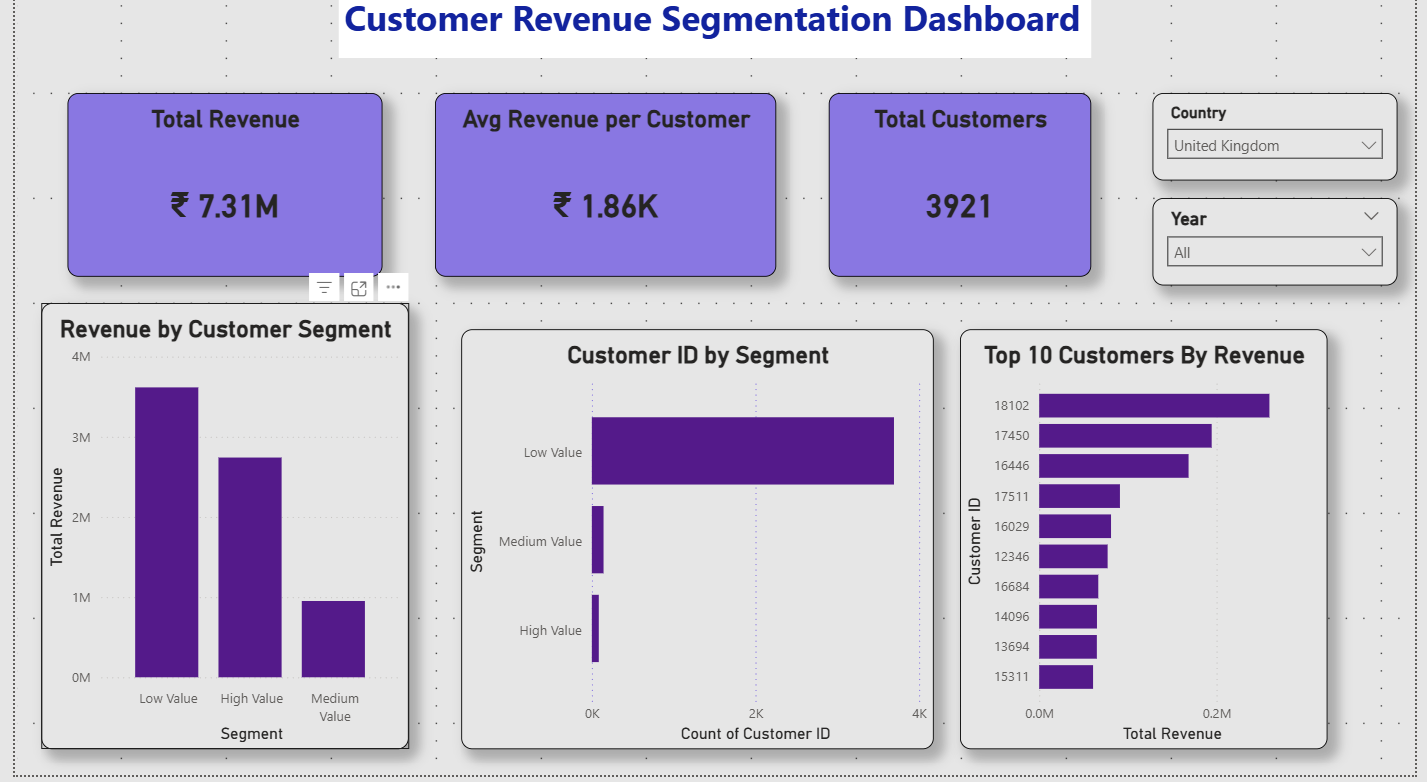

This screenshot's page, from the dashboard's own definition file:
{"tool":"powerbi","page":{"name":"Page 1","canvas":[1280,720],"ordinal":0},"visuals":[{"type":"card","title":"Total Revenue","fields":{"Values":["Cleaned_data.Total Revenue"]},"box":[48,96,288,168],"z":0},{"type":"textbox","box":[296,0,688,64],"z":1},{"type":"card","title":"Avg Revenue per Customer","fields":{"Values":["Cleaned_data.Avg Revenue per Customer"]},"box":[384,96,312,168],"z":2},{"type":"card","title":"Total Customers","fields":{"Values":["Cleaned_data.Total Customers"]},"box":[744,96,240,168],"z":3},{"type":"clusteredColumnChart","title":"Revenue by Customer Segment","fields":{"Y":["Cleaned_data.Total Revenue"],"Category":["Cleaned_data.Segment"]},"box":[24,288,336,408],"z":4},{"type":"clusteredBarChart","title":"Customer ID by Segment","fields":{"Category":["Cleaned_data.Segment"],"Y":["Count(Cleaned_data.Customer ID)"]},"box":[408,312,432,384],"z":5},{"type":"clusteredBarChart","title":"Top 10 Customers By Revenue","fields":{"Category":["Cleaned_data.Customer ID"],"Y":["Cleaned_data.Total Revenue"]},"box":[864,312,336,384],"z":6},{"type":"slicer","fields":{"Values":["Cleaned_data.Country"]},"box":[1040,96,224,80],"z":7},{"type":"slicer","fields":{"Values":["Cleaned_data.Year"]},"box":[1040,192,224,80],"z":8}]}

Visuals, with their boxes on the page's 1280x720 design canvas (x1, y1, x2, y2). These are canvas units, not pixel positions in the 1427x782 screenshot, which may show the page scaled, cropped or inside an application window:
"Total Revenue" card: l=48, t=96, r=336, b=264
textbox: l=296, t=0, r=984, b=64
"Avg Revenue per Customer" card: l=384, t=96, r=696, b=264
"Total Customers" card: l=744, t=96, r=984, b=264
"Revenue by Customer Segment" clusteredColumnChart: l=24, t=288, r=360, b=696
"Customer ID by Segment" clusteredBarChart: l=408, t=312, r=840, b=696
"Top 10 Customers By Revenue" clusteredBarChart: l=864, t=312, r=1200, b=696
slicer - Cleaned_data.Country: l=1040, t=96, r=1264, b=176
slicer - Cleaned_data.Year: l=1040, t=192, r=1264, b=272
